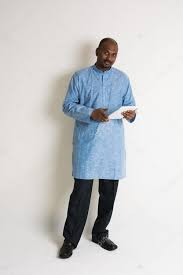Indian_Male: (92, 36, 126, 68)
